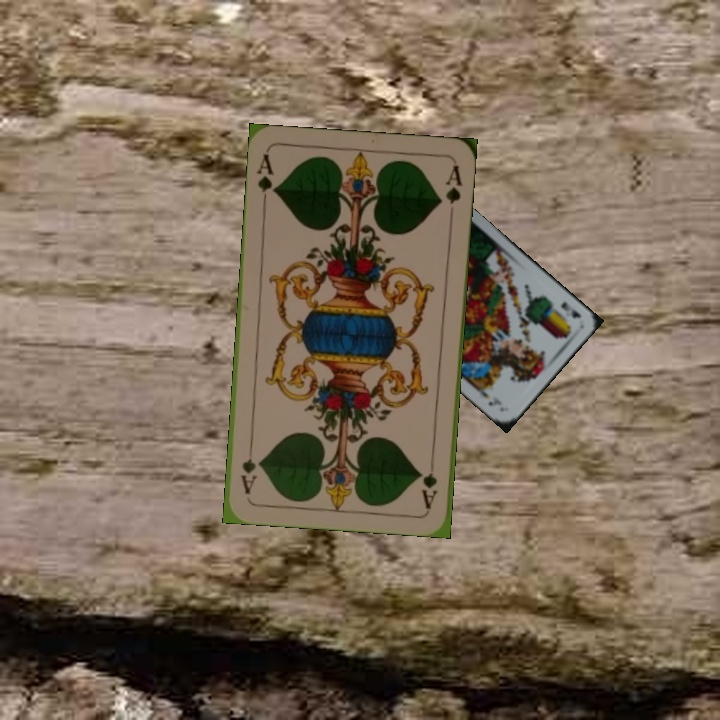EK: (556, 297, 583, 321)
GA: (253, 150, 279, 209), (418, 451, 440, 510)
